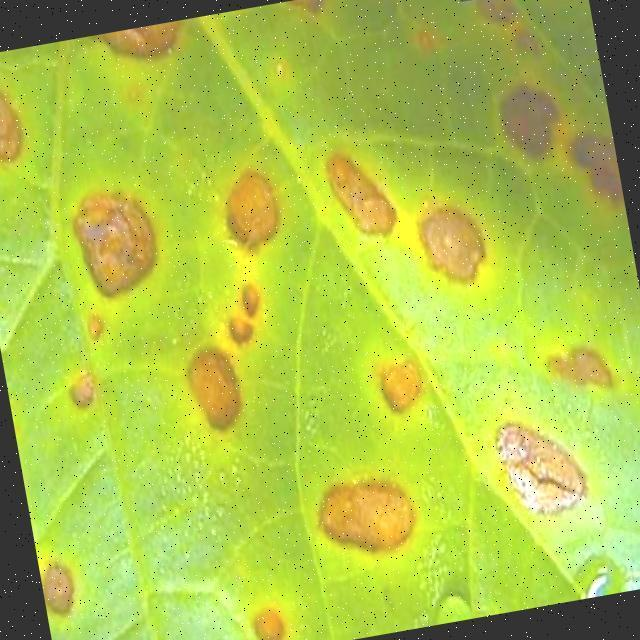Bacterial: (16, 49, 637, 603)
